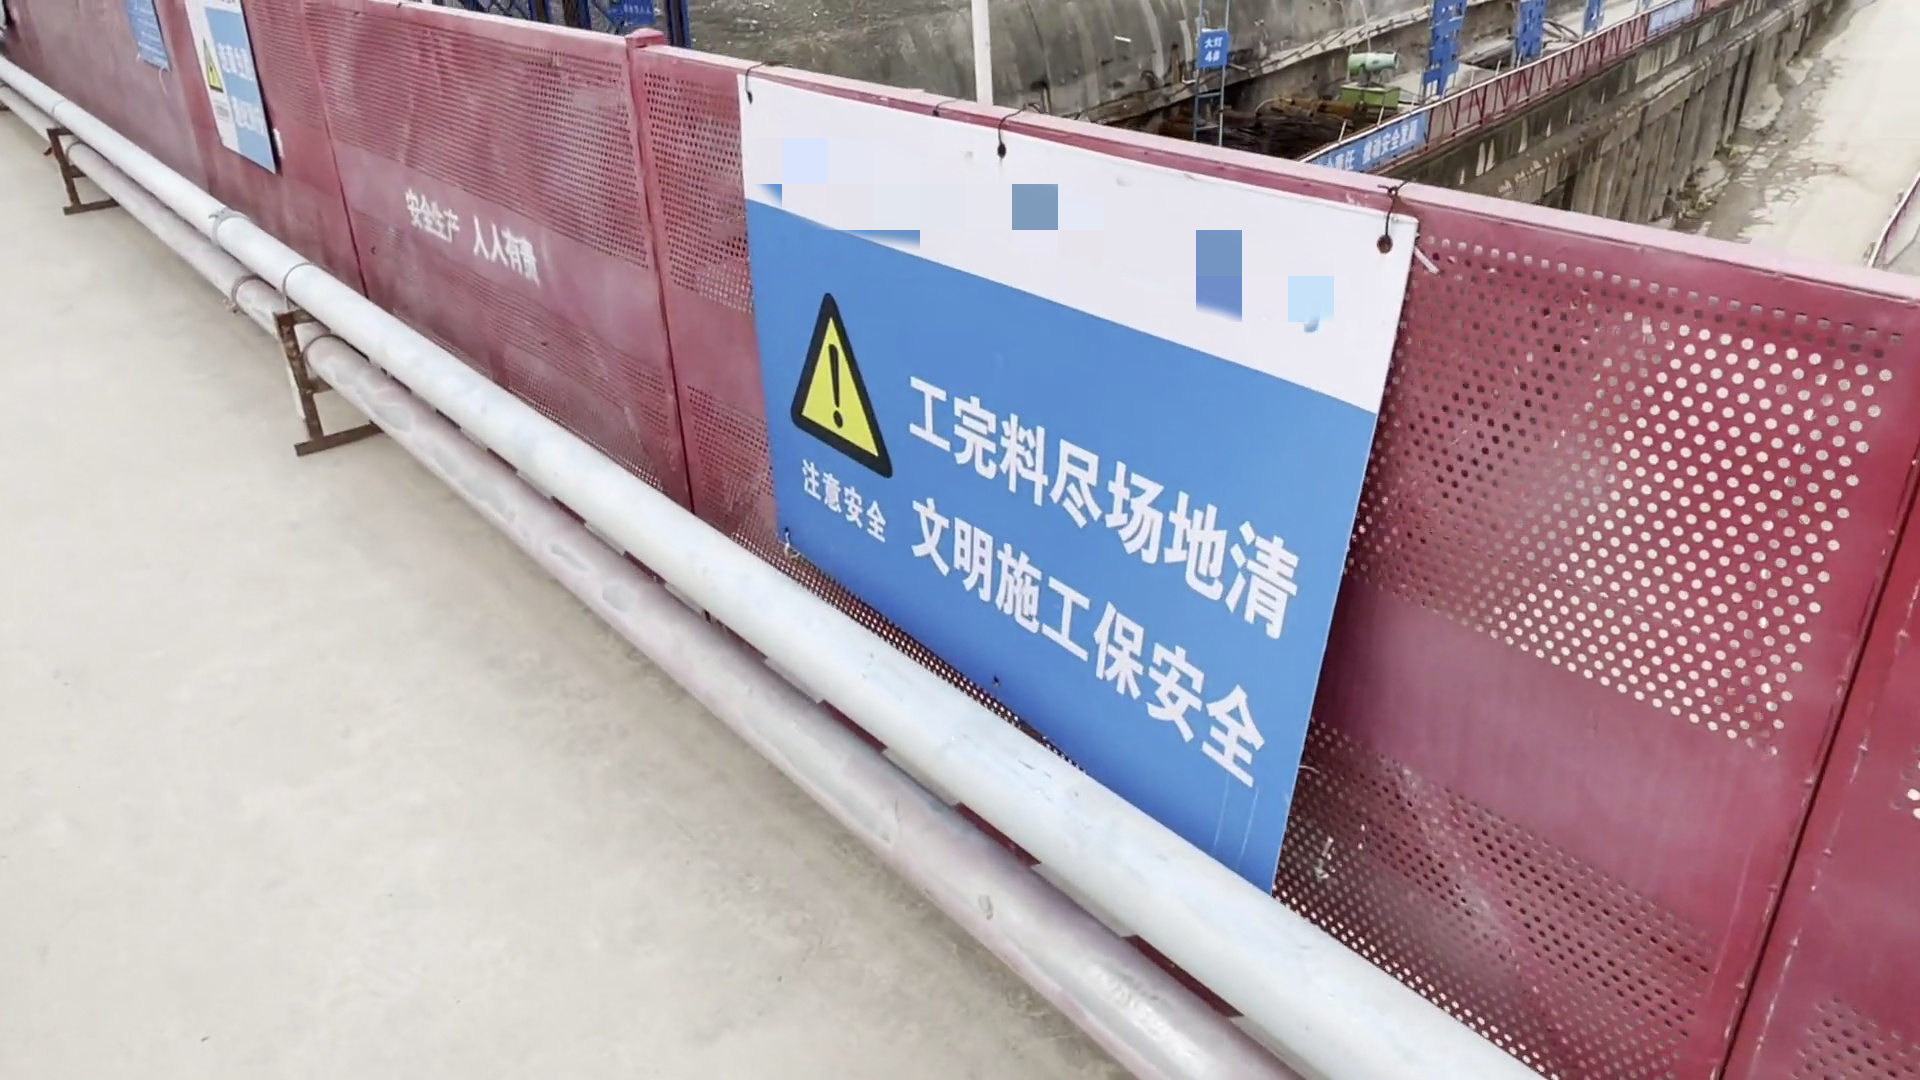fence: (406, 22, 707, 479)
slogan: (691, 65, 1429, 895), (179, 1, 293, 181)
